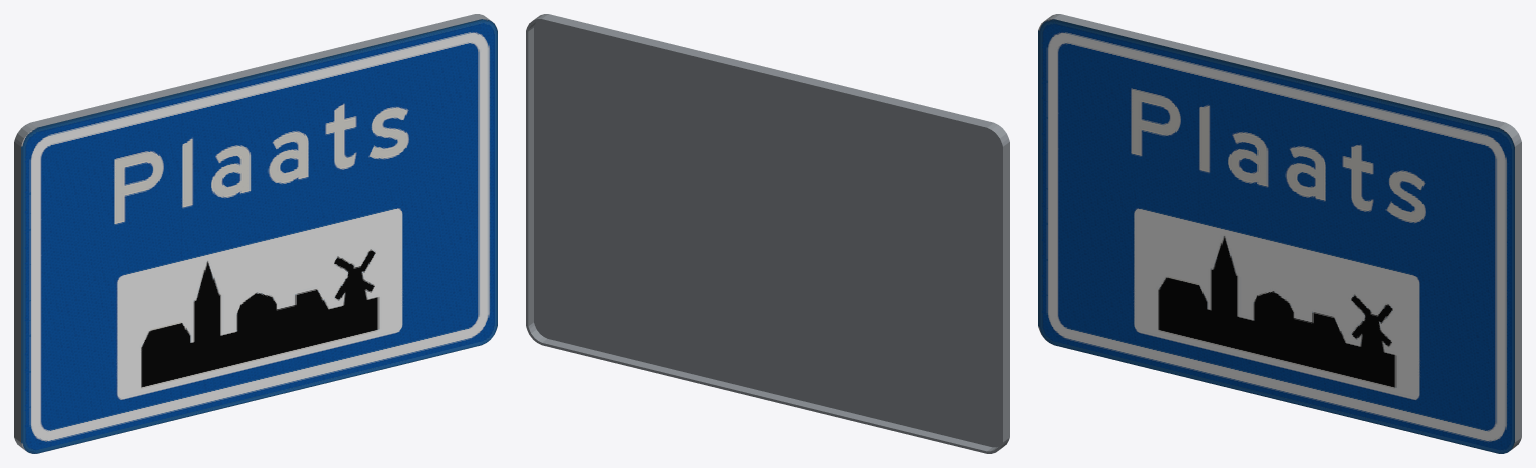
The picture shows the model from 3 angles, left to right: view 1: azimuth 30°, elevation 25°; view 2: azimuth 150°, elevation 25°; view 3: azimuth 330°, elevation 25°; orthographic projection.
Parts seen in each view (by area): view 1: cat_c5acc3bf3dff11f0; view 2: cat_c5acc3bf3dff11f0; view 3: cat_c5acc3bf3dff11f0.
Part boxes in pixels (left/top/right/bottom): cat_c5acc3bf3dff11f0: left=14, top=14, right=497, bottom=453; cat_c5acc3bf3dff11f0: left=526, top=14, right=1009, bottom=453; cat_c5acc3bf3dff11f0: left=1038, top=14, right=1521, bottom=453.
Bounding box in the file's own units: 0.6 × 0.015 × 0.3922.
Materials: 2 (1 with a texture image).
